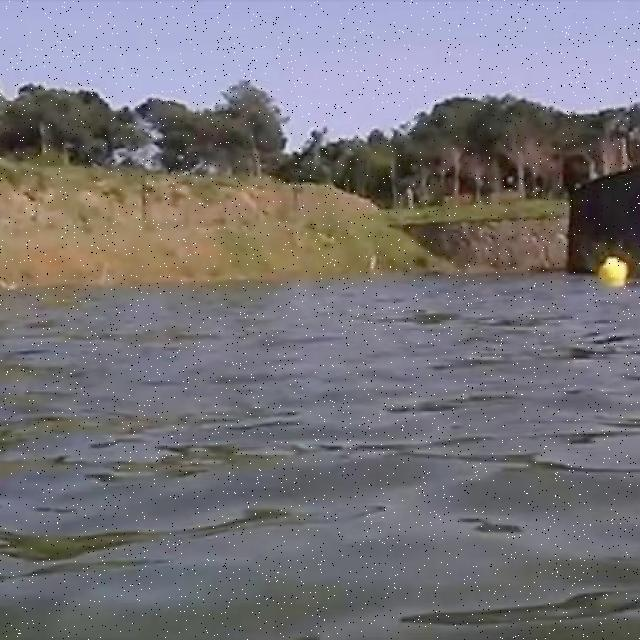buoy: (598, 257, 628, 285)
